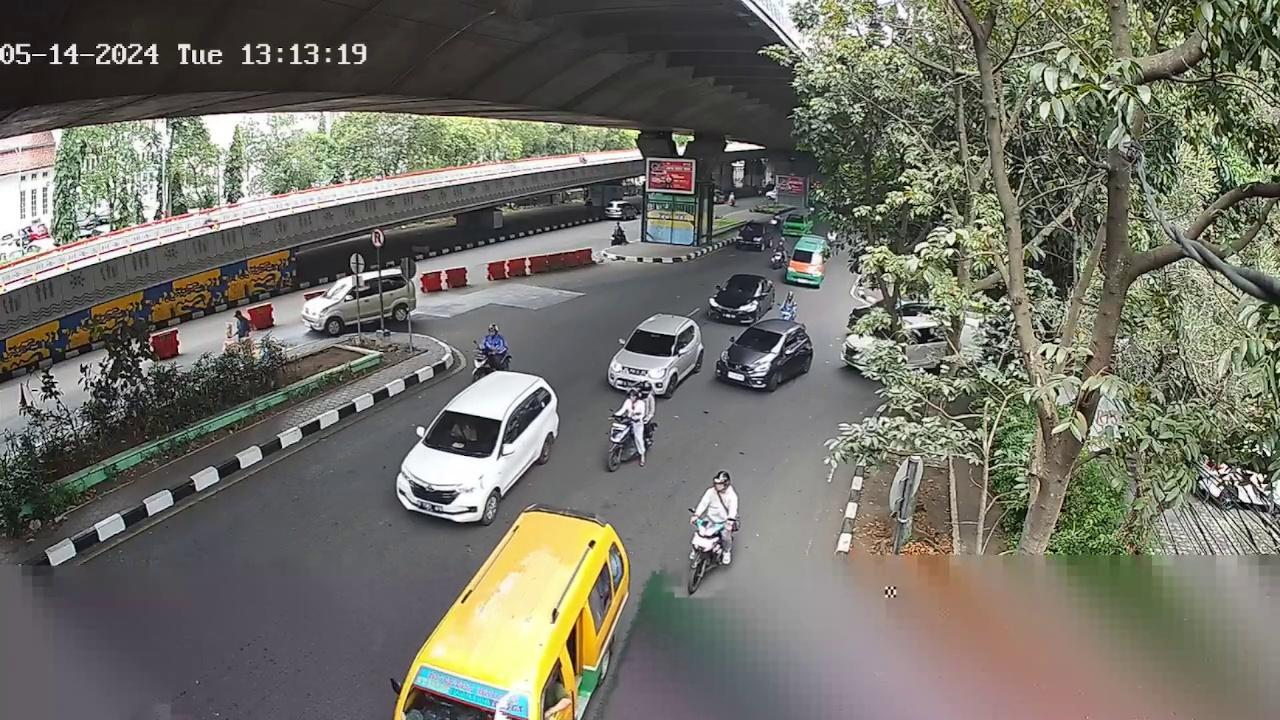pakai: (451, 422, 477, 443)
windshield: (425, 411, 502, 454), (616, 325, 688, 360)
